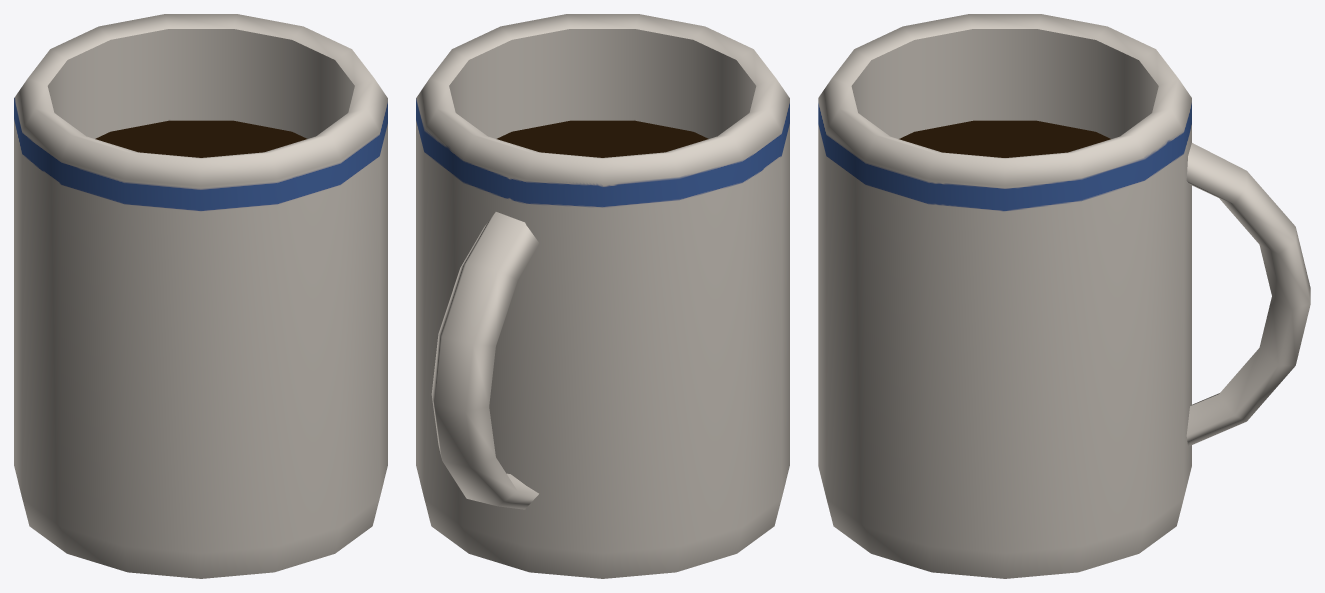
File: Cup.fbx
The picture shows the model from 3 angles, left to right: view 1: azimuth 30°, elevation 25°; view 2: azimuth 150°, elevation 25°; view 3: azimuth 270°, elevation 25°; orthographic projection.
Visible parts, largest first — view 1: pCylinder2; view 2: pCylinder2; view 3: pCylinder2.
Part boxes in pixels (x1,y1,x2,y2): pCylinder2: (14, 14, 387, 578); pCylinder2: (416, 14, 789, 578); pCylinder2: (818, 14, 1310, 578).
Bounding box in the file's own units: 0.1202 × 0.1486 × 0.1592.
1 material, 1 textured.
